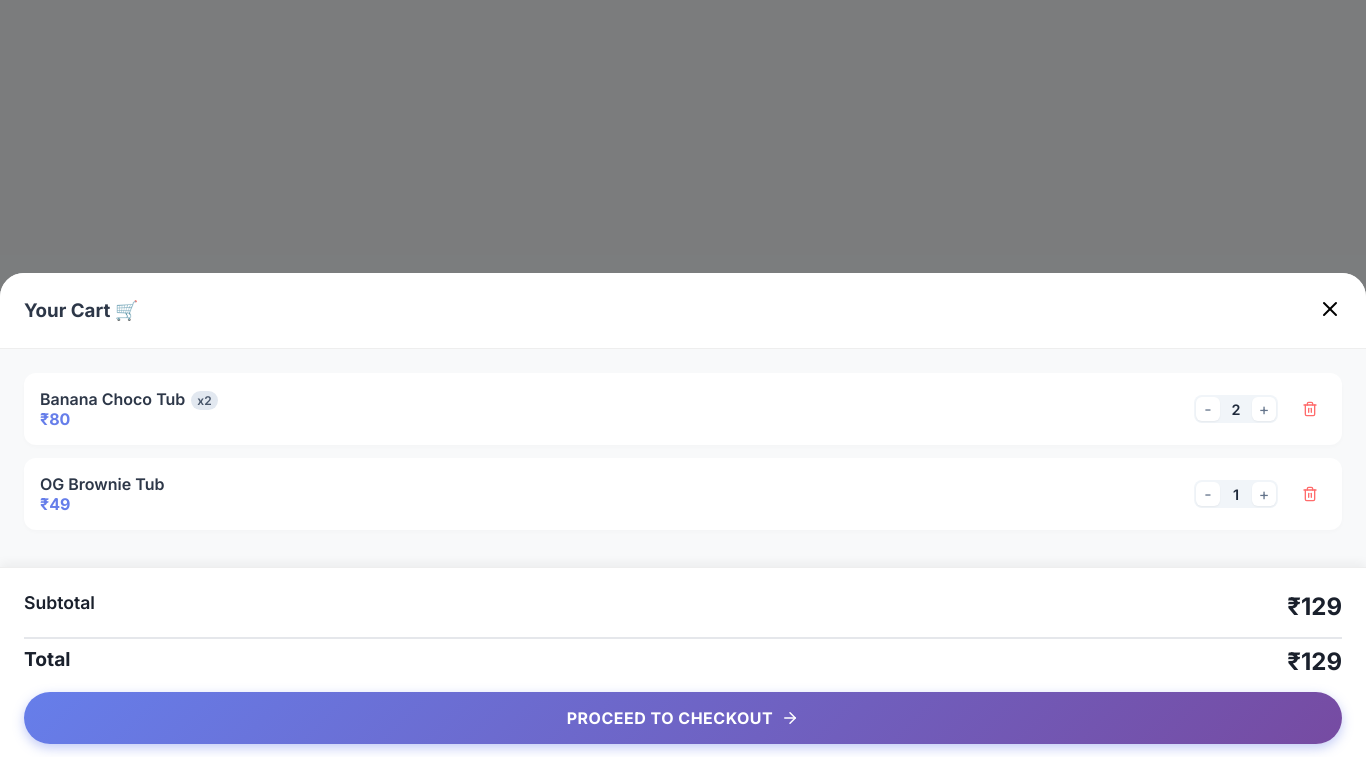
Test: CartModal › Customer Info Step › should display customer loyalty info when found
The image size is (1366, 757).
Click the button "Proceed to Checkout": [683, 718] box [24,692,1342,744]
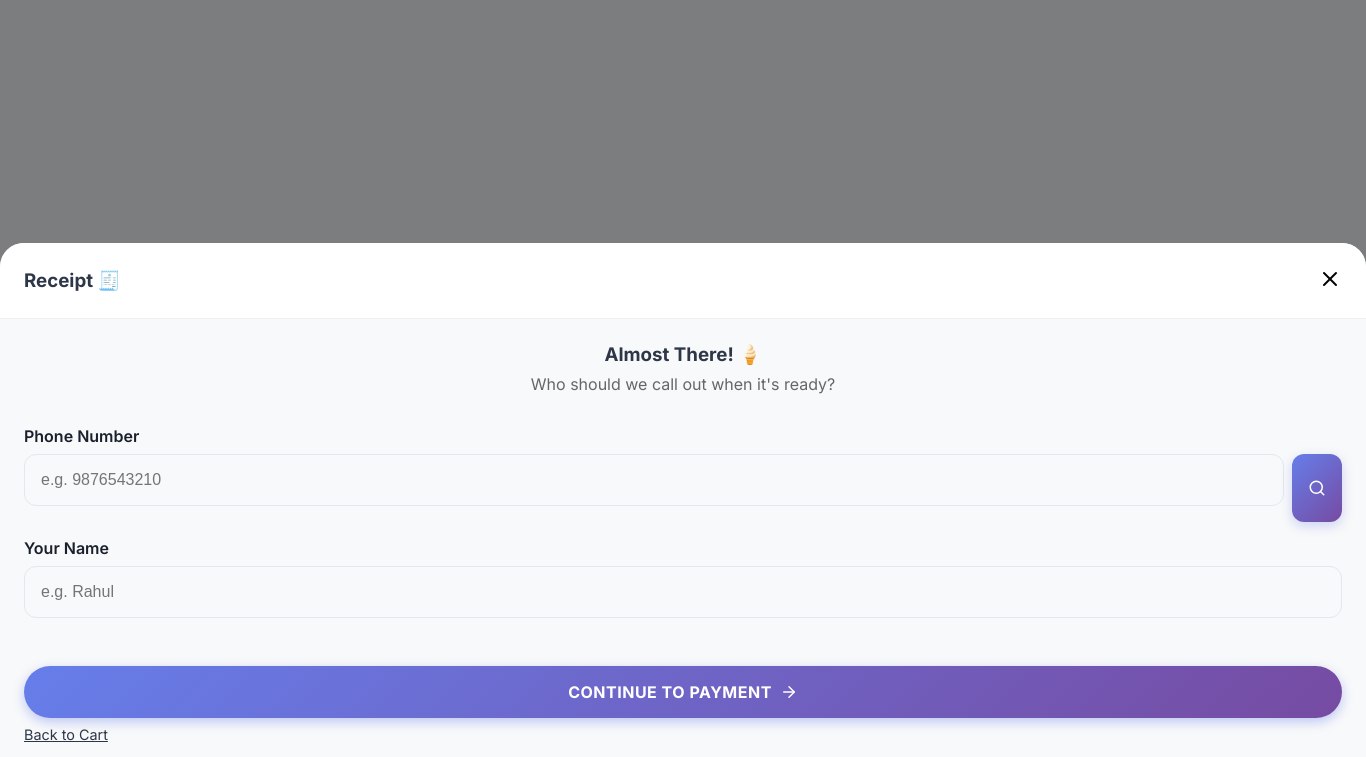
In the field with placeholder "e.g. 9876543210": [654, 480] box [24,454,1284,506], type "9876543210"
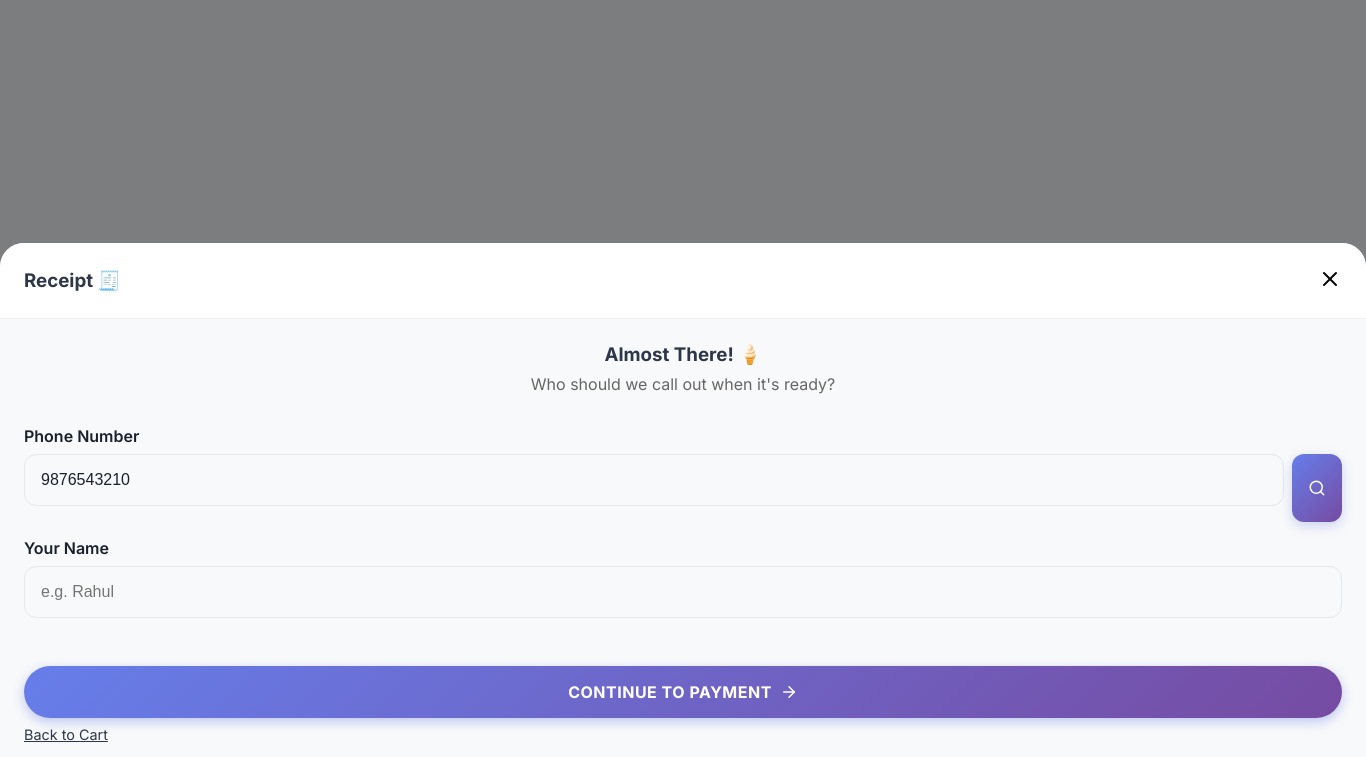
Leave the field with placeholder "e.g. 9876543210", box [24,454,1284,506]
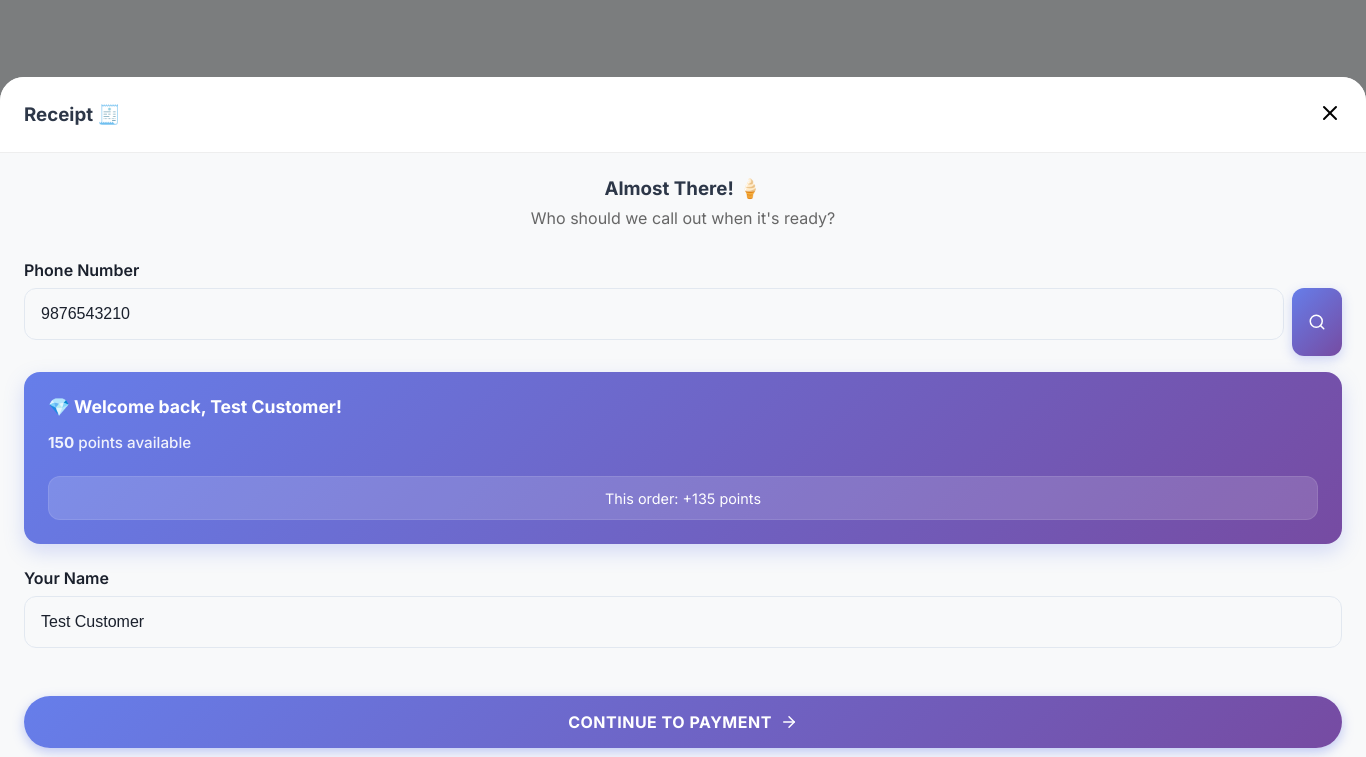
Result: the text "💎 Welcome back, Test Customer!" is shown at [48,396,342,417]
Result: the text "150" is shown at [48,433,74,452]
